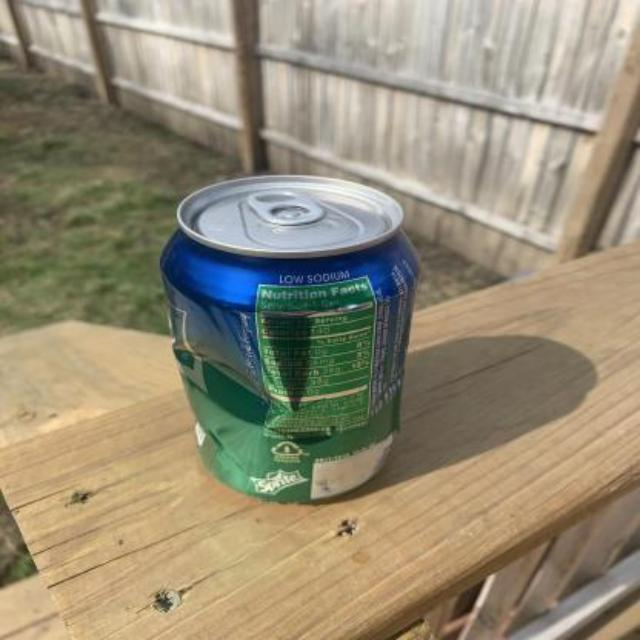metal: (160, 174, 414, 498)
